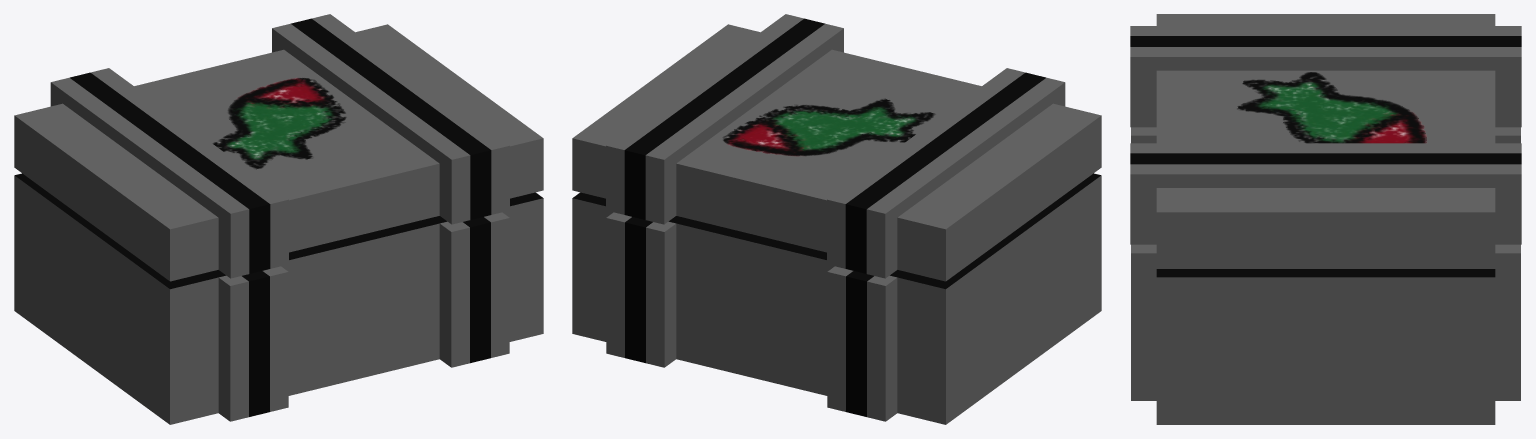
Rendered from Crate.fbx.
The picture shows the model from 3 angles, left to right: view 1: azimuth 30°, elevation 25°; view 2: azimuth 150°, elevation 25°; view 3: azimuth 270°, elevation 25°; orthographic projection. The views are drawn at different scales.
Parts seen in each view (by area): view 1: Cube, Rocket; view 2: Cube, Rocket; view 3: Cube, Rocket.
Boxes of the visible parts, x1,y1,x2,y2 form: Cube: [14, 14, 543, 424]; Rocket: [212, 77, 347, 169]; Cube: [572, 14, 1101, 424]; Rocket: [722, 98, 936, 156]; Cube: [1130, 14, 1521, 424]; Rocket: [1236, 72, 1427, 143].
Bounding box in the file's own units: 1.48 × 0.7861 × 1.23.
